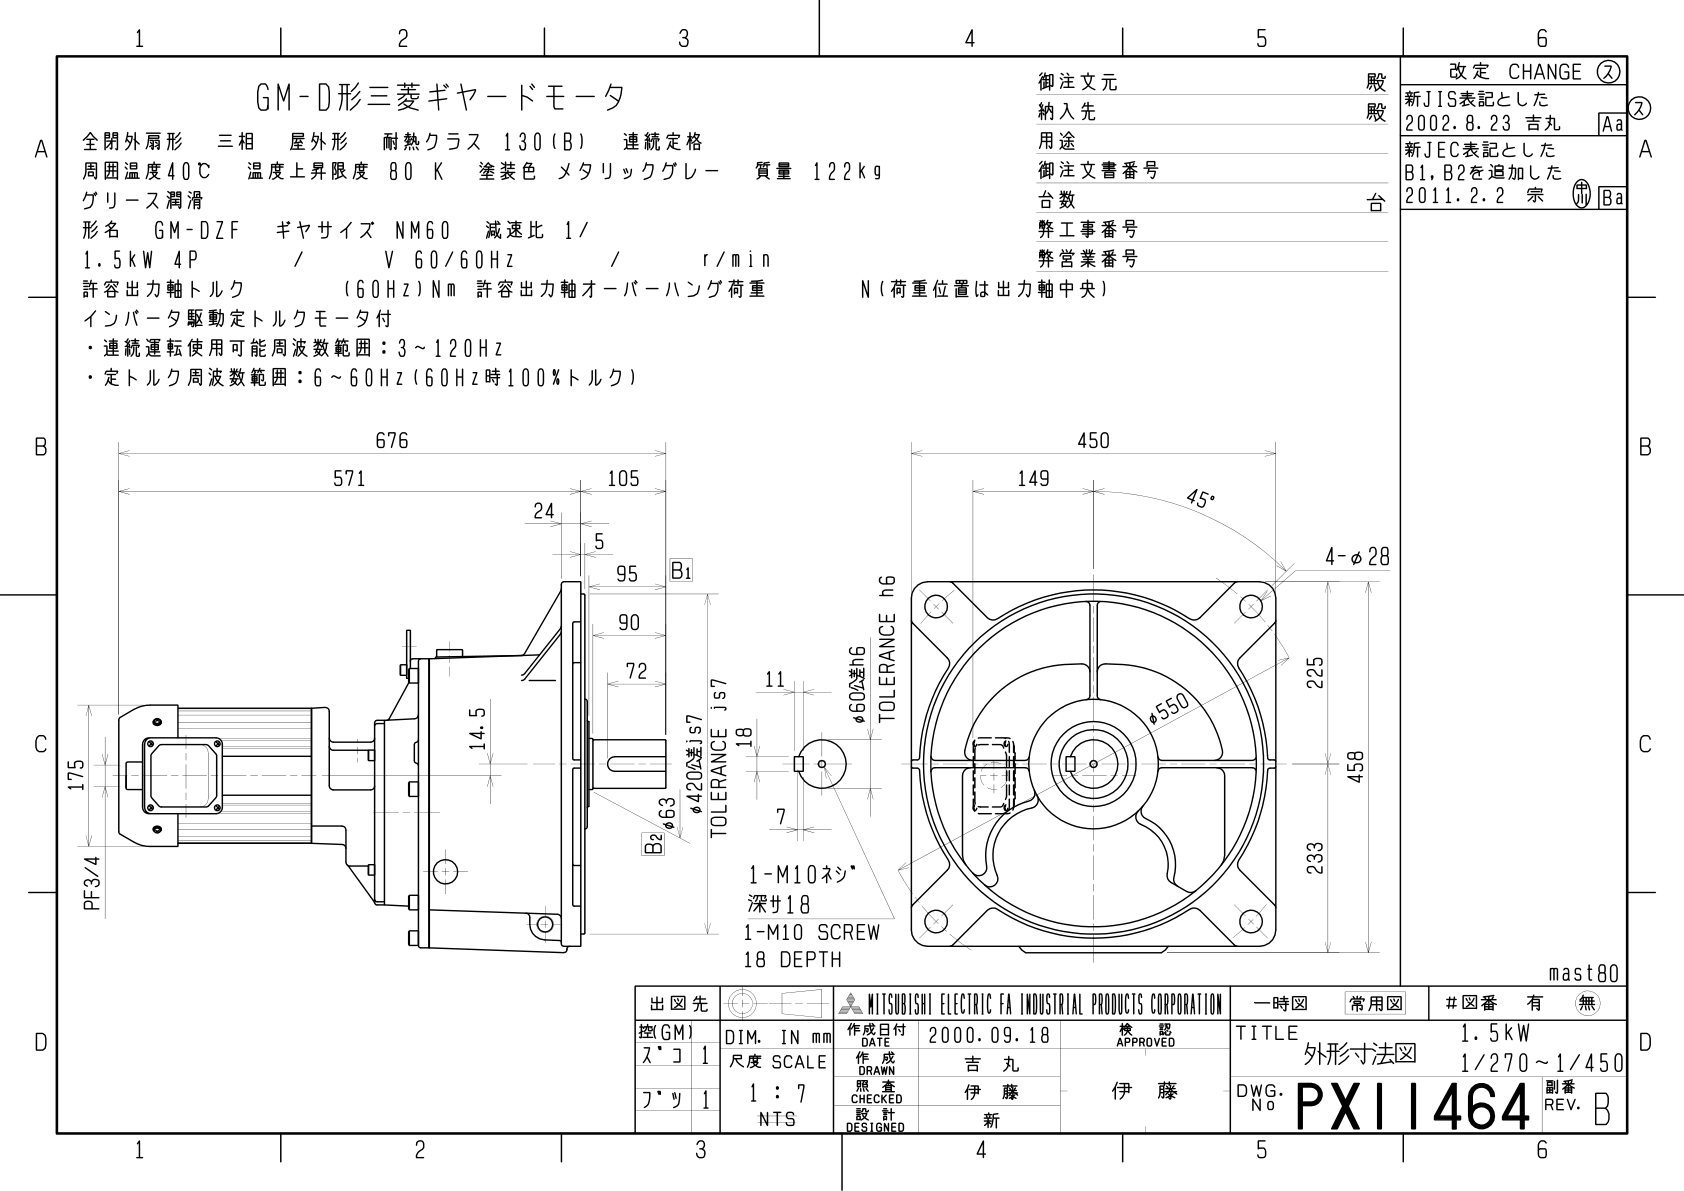GM_D_インバータ屋外_三相_フランジ: (63, 394, 1395, 969)
